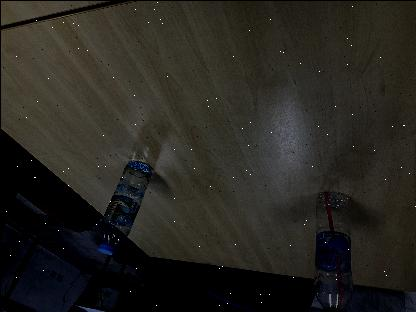Plastic Bottle: (96, 158, 152, 256), (312, 190, 352, 312)
